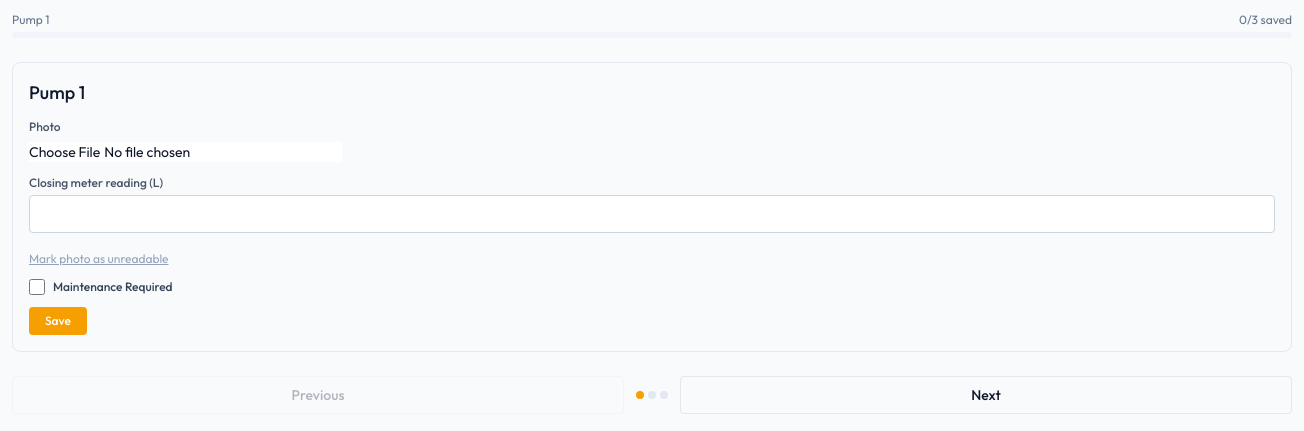
Scenario: PumpCarousel › Next button is disabled on the last pump
Click the button "Next": (986, 395) [680,376,1292,414]
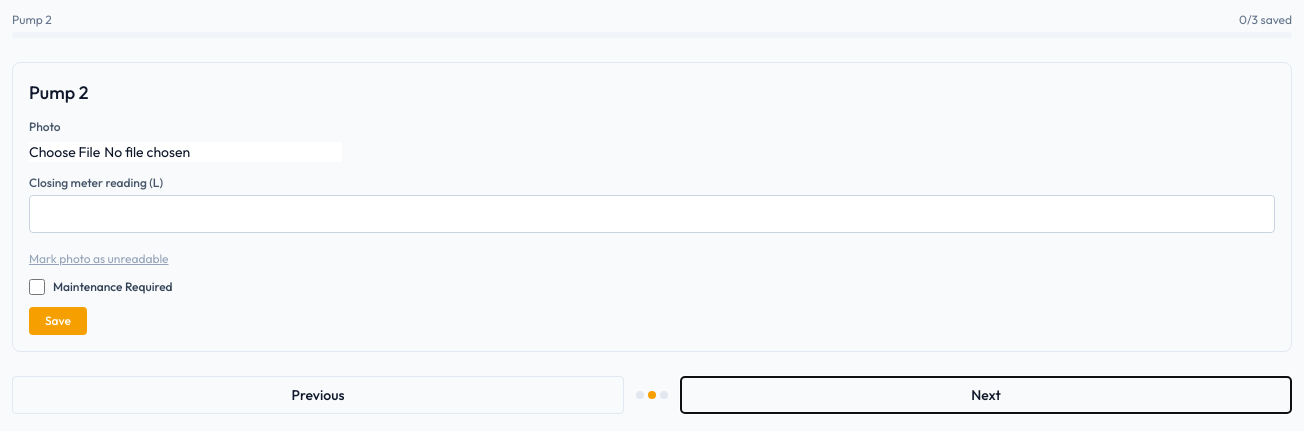
Click the button "Next": (986, 395) [680,376,1292,414]
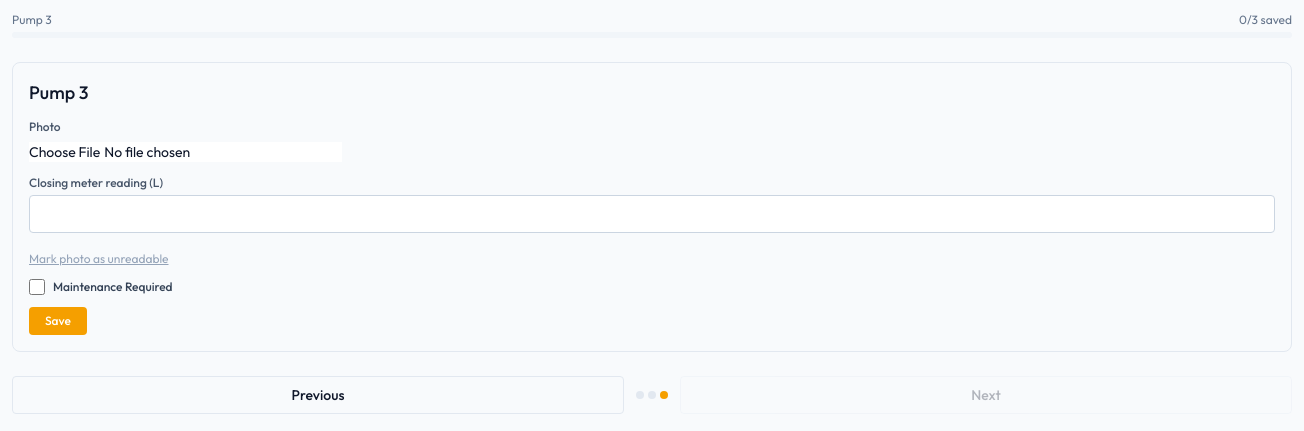
Check: the button "Next" is disabled, box [680,376,1292,414]
